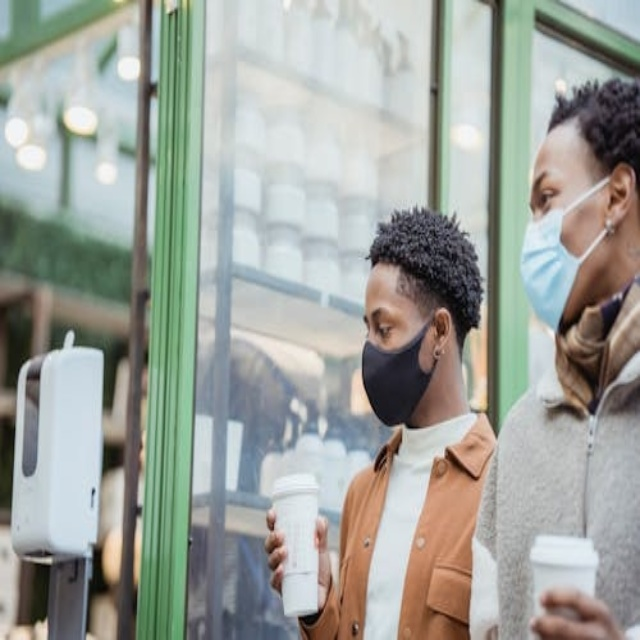Mascara: (518, 172, 617, 331), (361, 312, 442, 427)
Sin_gafas: (537, 187, 556, 209), (376, 322, 394, 339), (362, 314, 372, 340)
Sin_guantes: (264, 502, 330, 615), (522, 571, 628, 632)
